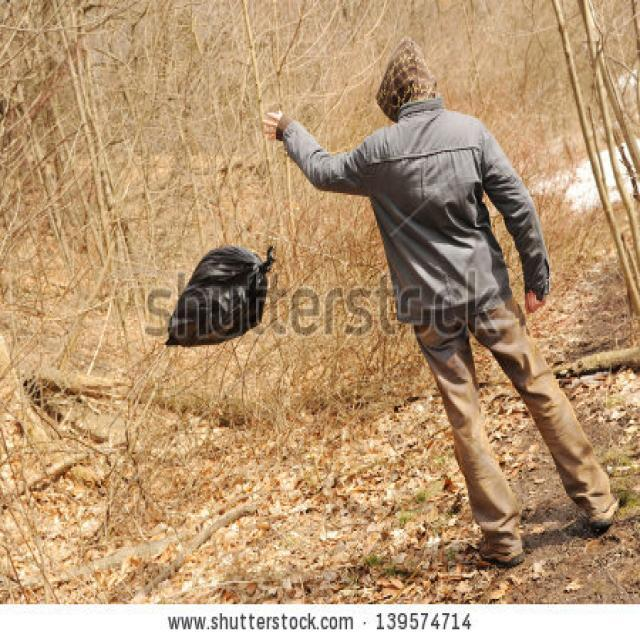Trashbag: (162, 237, 284, 354)
